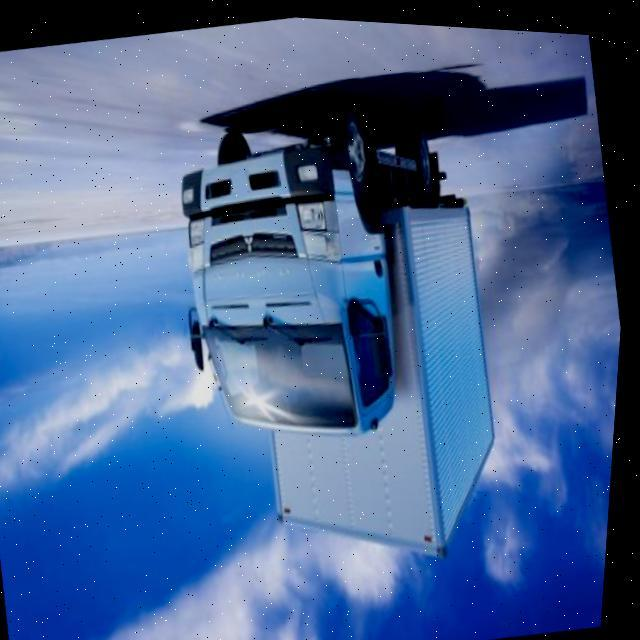truck: (142, 66, 539, 591)
